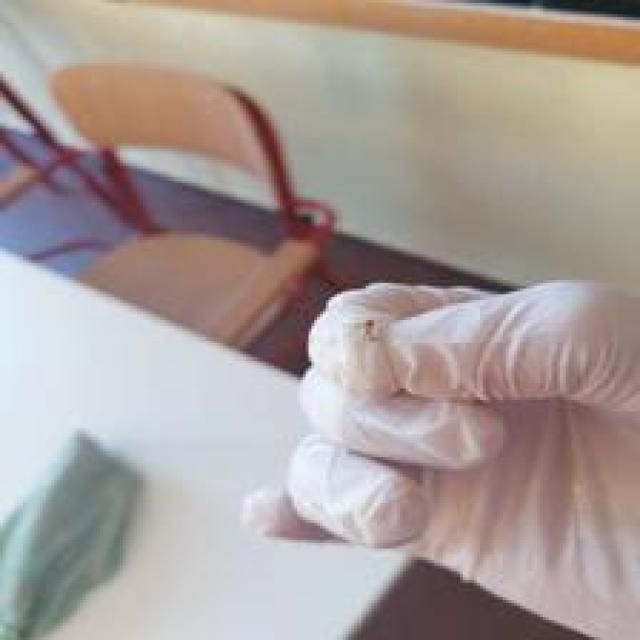Culex: (0, 428, 145, 640)
